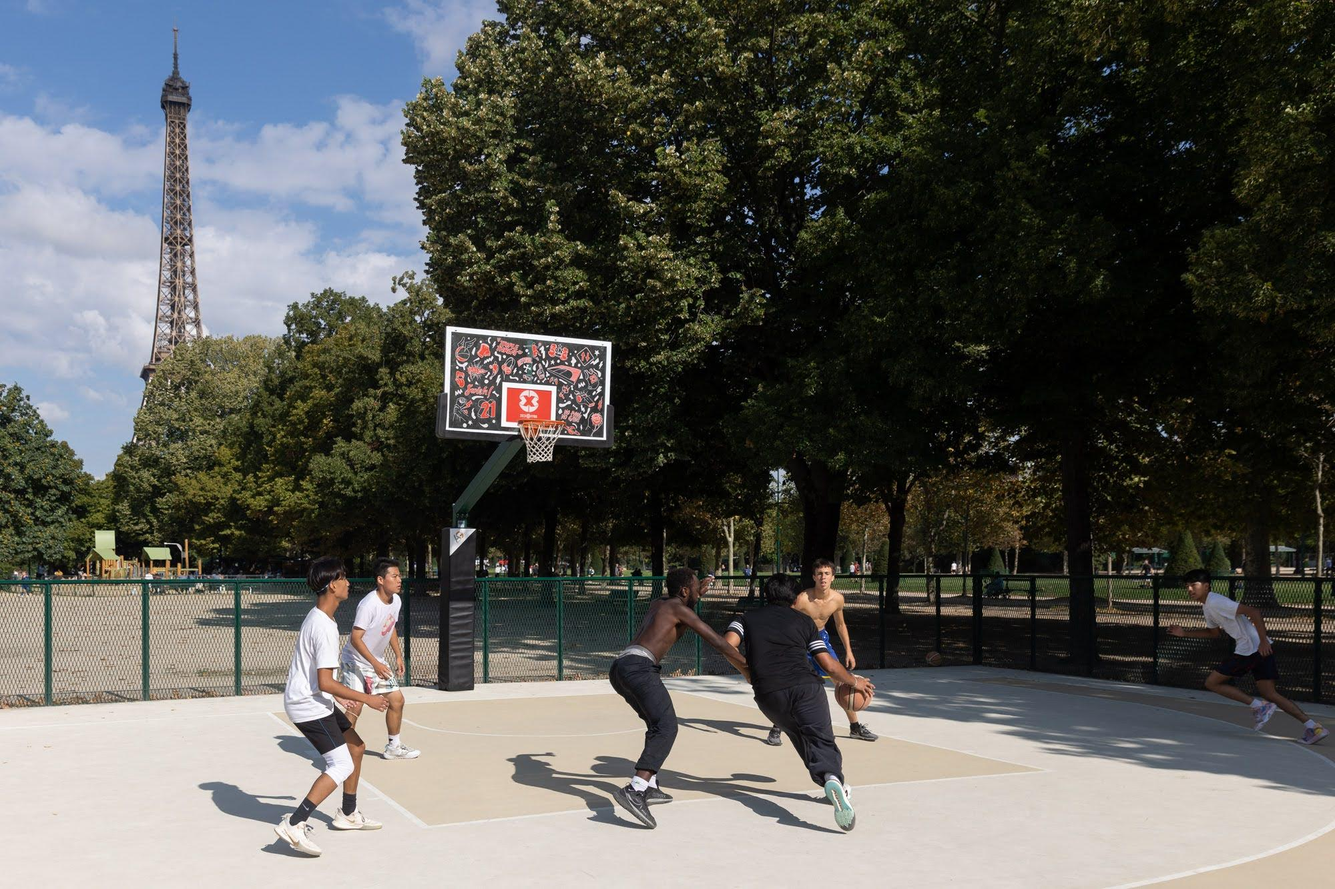basketball: (836, 675, 872, 710)
